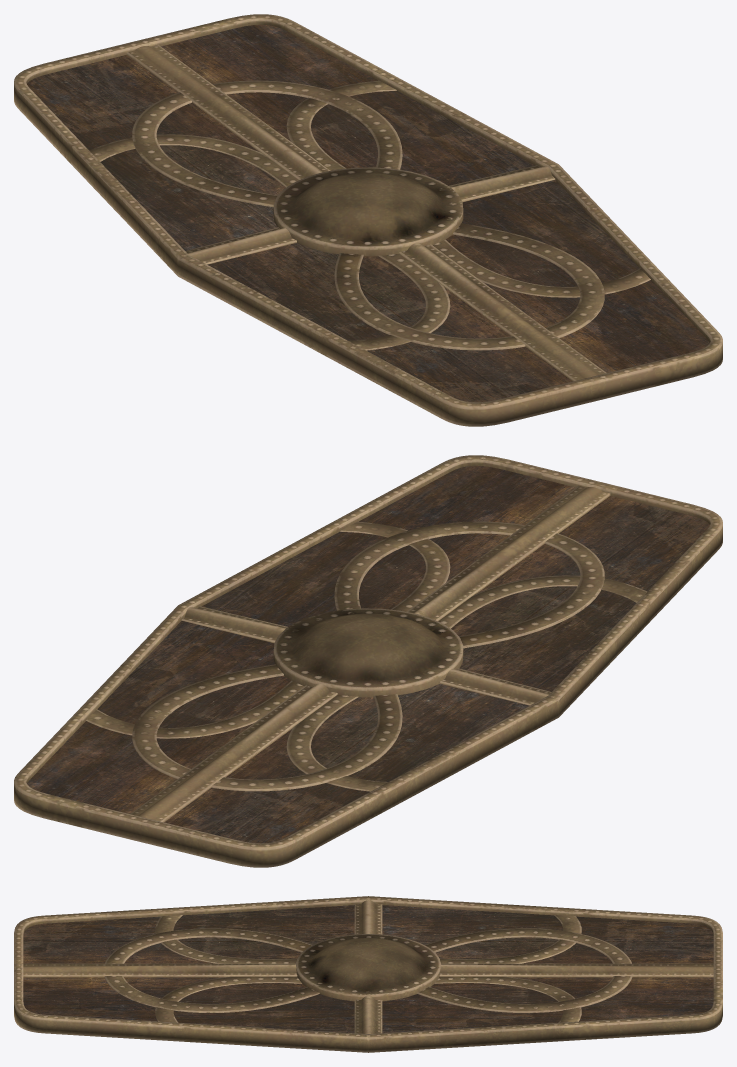
File: dunland_wulf_shield_heavy_a.fbx
The picture shows the model from 3 angles, top to bottom: view 1: azimuth 30°, elevation 25°; view 2: azimuth 150°, elevation 25°; view 3: azimuth 270°, elevation 25°; orthographic projection. The views are drawn at different scales.
Visible parts, largest first — view 1: dunland_wulf_shield_heavy_a; view 2: dunland_wulf_shield_heavy_a; view 3: dunland_wulf_shield_heavy_a.
Part boxes in pixels (x1,y1,x2,y2): dunland_wulf_shield_heavy_a: (14, 14, 722, 426); dunland_wulf_shield_heavy_a: (14, 455, 722, 867); dunland_wulf_shield_heavy_a: (14, 896, 722, 1052).
Size of the model in its own units: 0.72 by 1.52 by 0.0818.
Materials: 1 (1 with a texture image).
